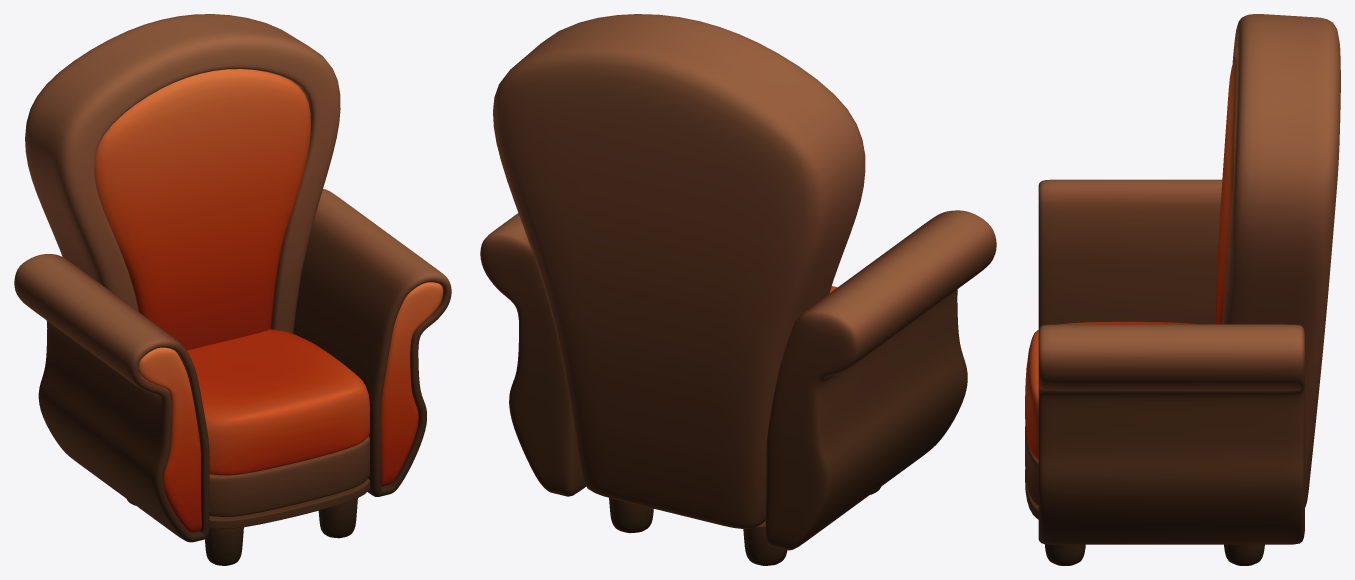
File: armchair.glb
3 views of the same model, side by side, from view 1: azimuth 30°, elevation 25°; view 2: azimuth 150°, elevation 25°; view 3: azimuth 270°, elevation 25° (orthographic). The views are drawn at different scales.
Visible parts, largest first — view 1: sofa; view 2: sofa; view 3: sofa.
Boxes of the visible parts, x1,y1,x2,y2 form: sofa: [14, 14, 451, 565]; sofa: [480, 14, 996, 565]; sofa: [1025, 14, 1340, 565].
Bounding box in the file's own units: 1.28 × 1.68 × 0.9819.
Materials: 1 (1 with a texture image).
